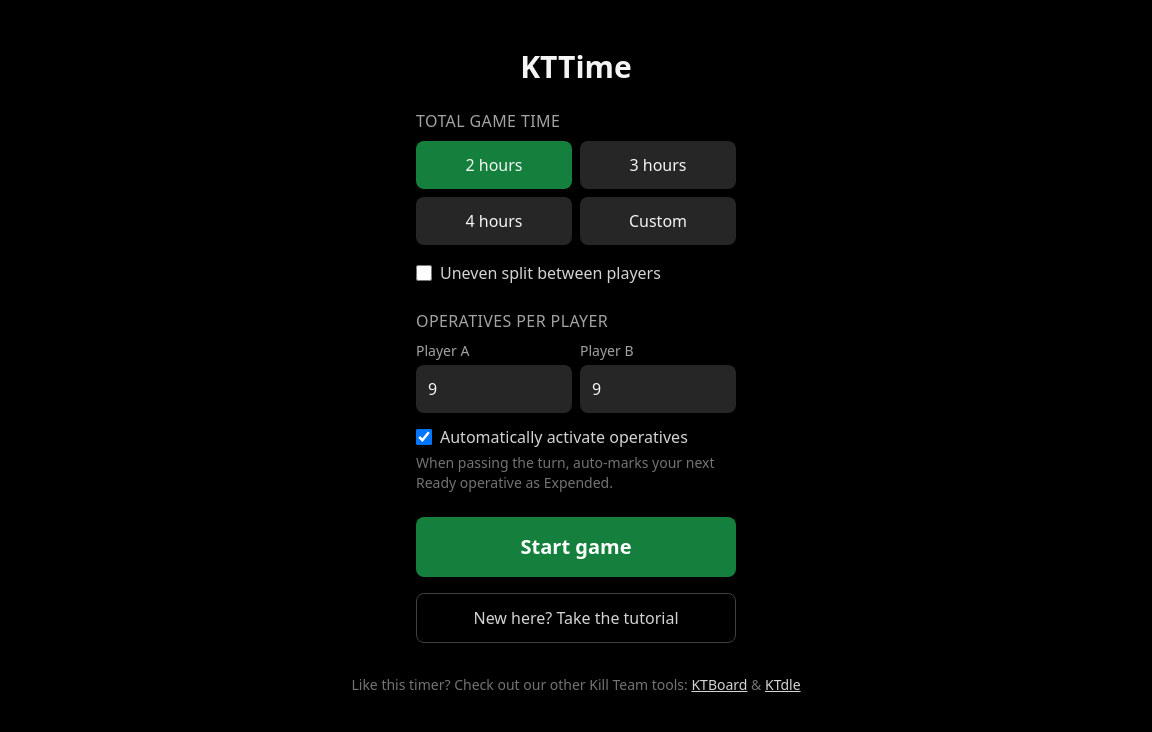
Scenario: App › starting a game shows both player zones counting down from the chosen budget
Click the button "Start game" at (576, 547), box [416,517,736,577]
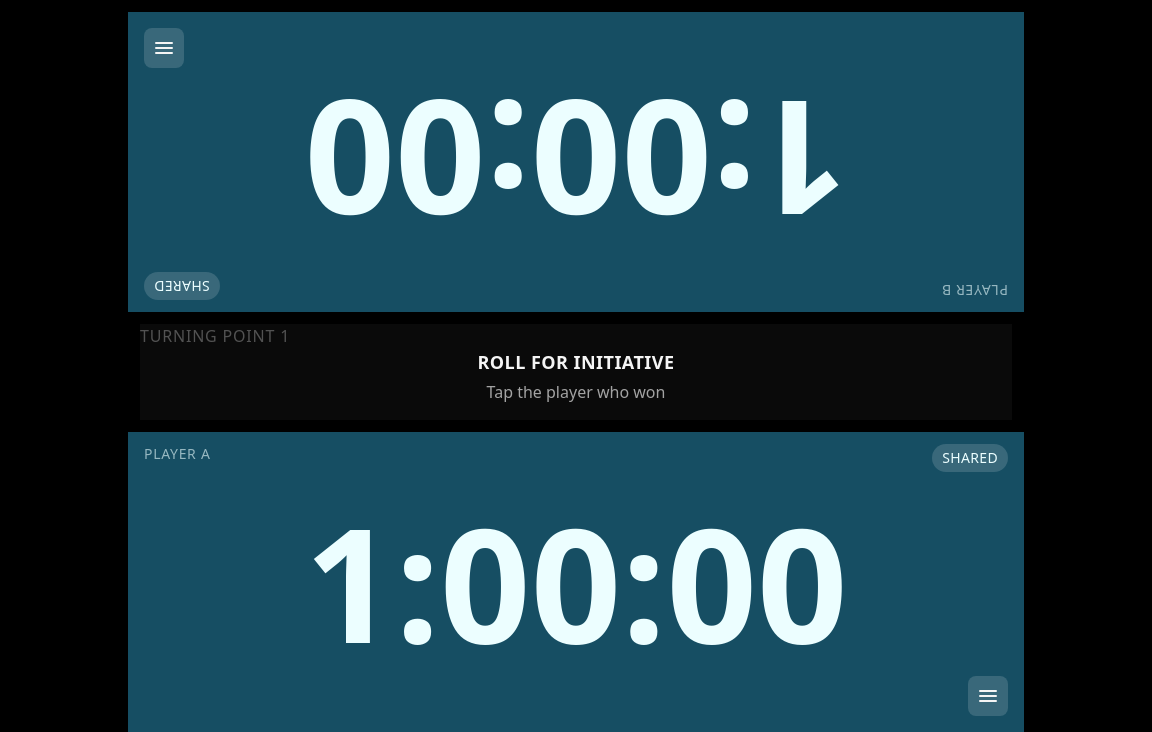
Now the text "1:00:00" is shown 2 times, box [304,43,848,281]; [304,463,848,701]
